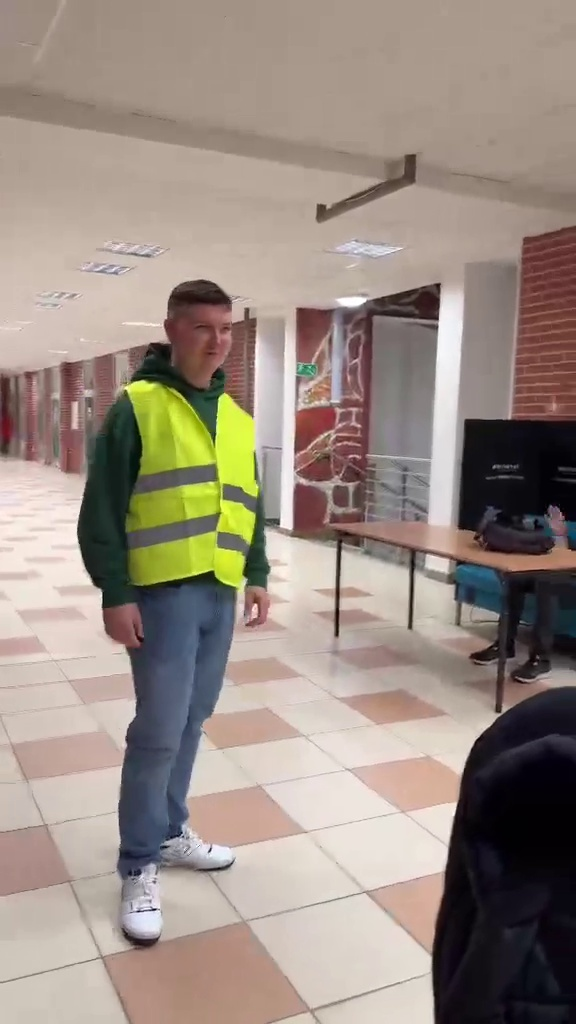vest: (80, 277, 275, 964)
